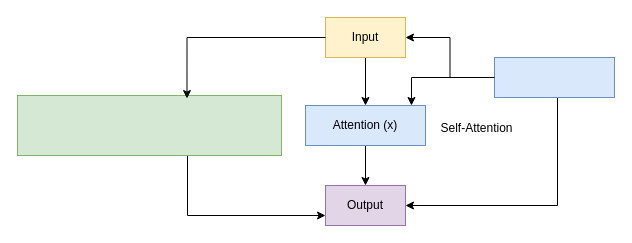
Some shapes in this 632 by 243 pixel diagram are drawn without their labels. The shapes that lost their labels are listed below. From the top down, each one's centre as x and y in pixels, then its label:
At point (554, 77): "Residual Connection".
At point (149, 125): "Add (Residual Connection) 'x+Attention'".
